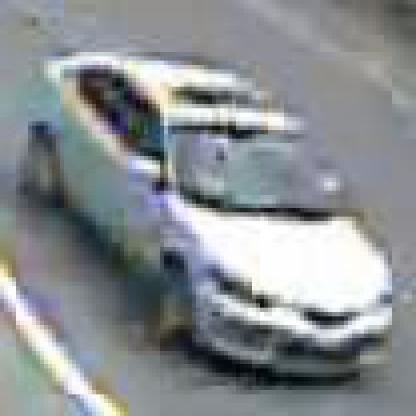car: (17, 53, 397, 400)
